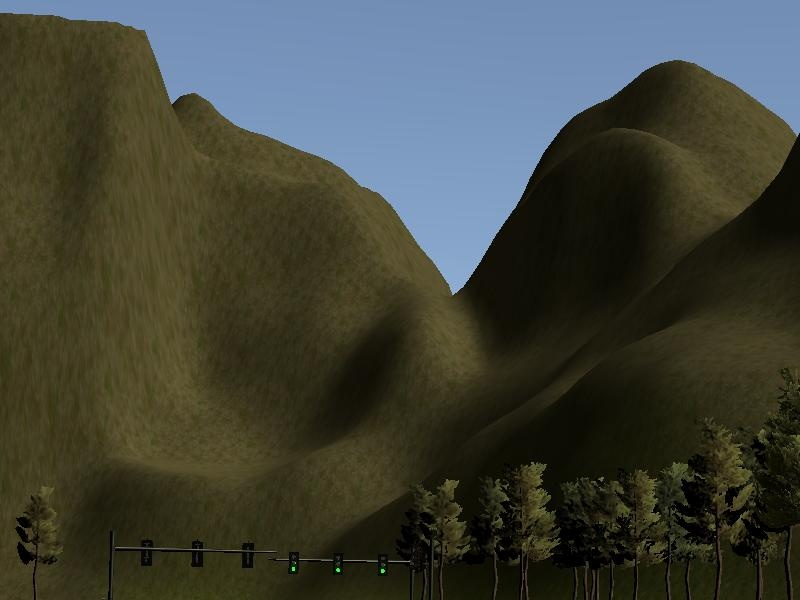green: (372, 547, 393, 579), (331, 550, 348, 581), (287, 550, 301, 579)
